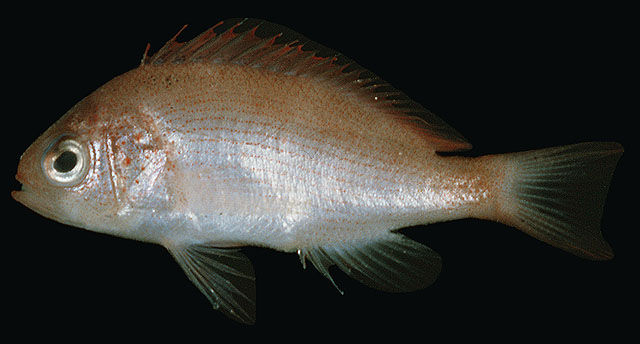fish: (11, 17, 619, 323)
